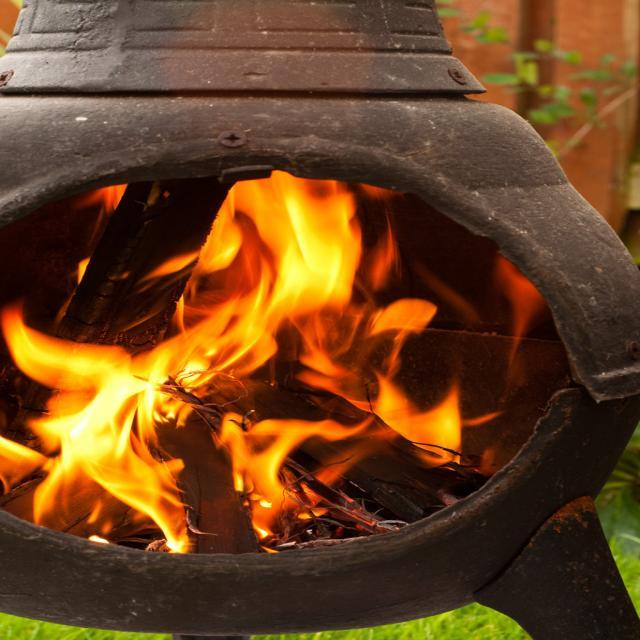Fire: (14, 342, 199, 530), (197, 181, 370, 352), (246, 410, 471, 510)
